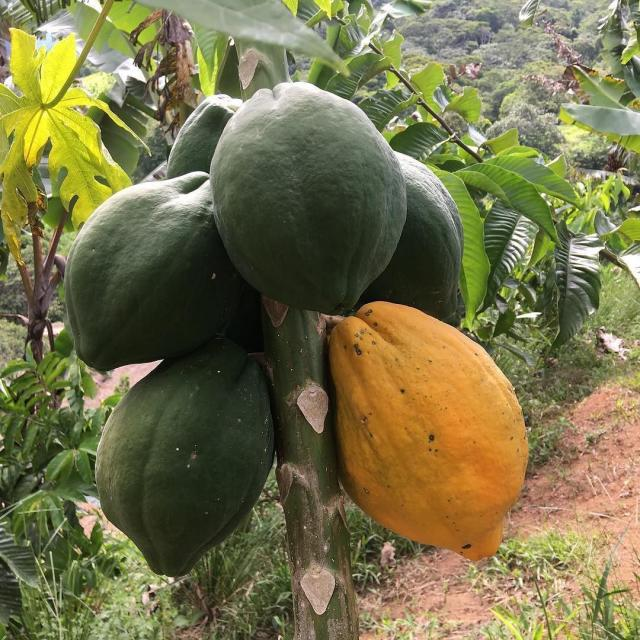Pepaya rippen: (317, 307, 533, 561)
Pepaya unrippen: (205, 75, 401, 312), (64, 154, 238, 378), (105, 344, 252, 574)
